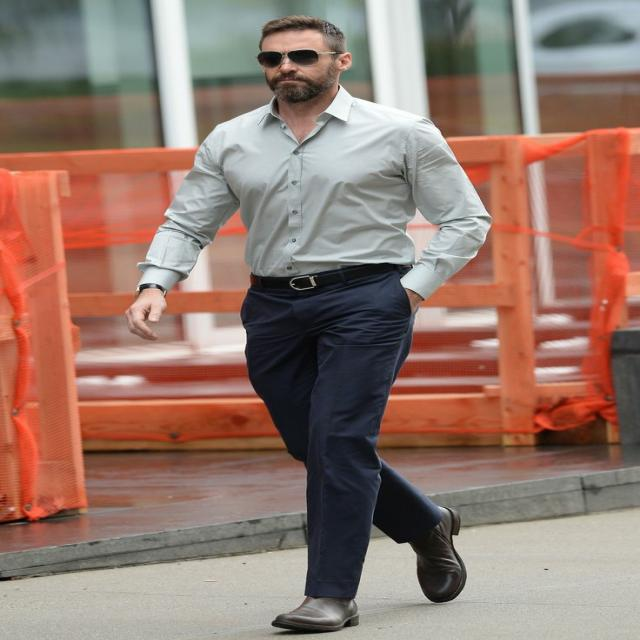male-dress: (130, 91, 508, 628)
